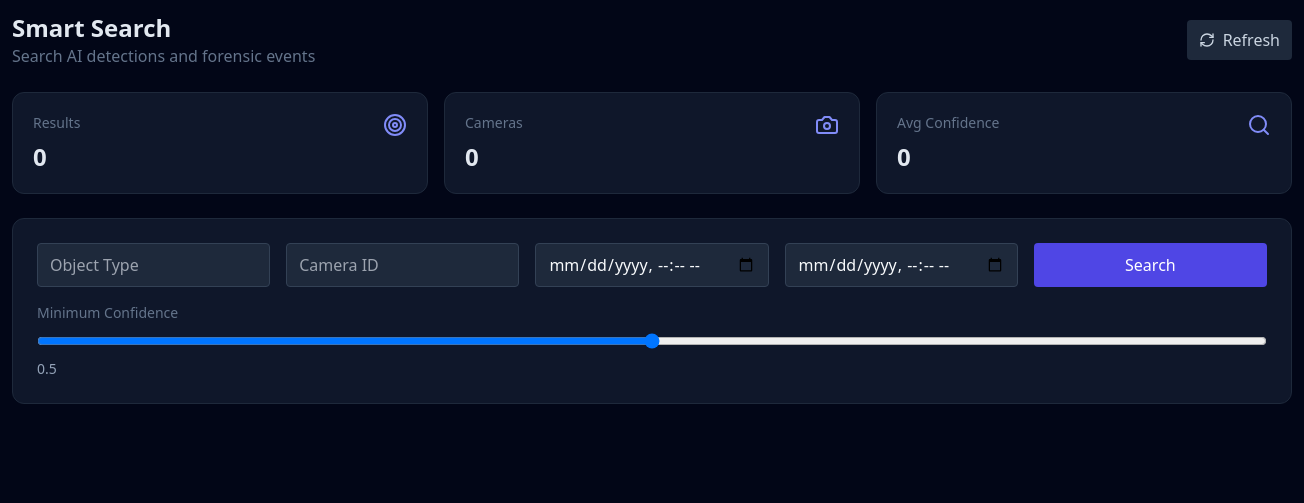
Test: SearchPage › shows error message when search fails
What coordinates should you click on to do the following:
click the button "Search"
I would click on:
 (1150, 265)
Its box is [1034,243,1267,287].
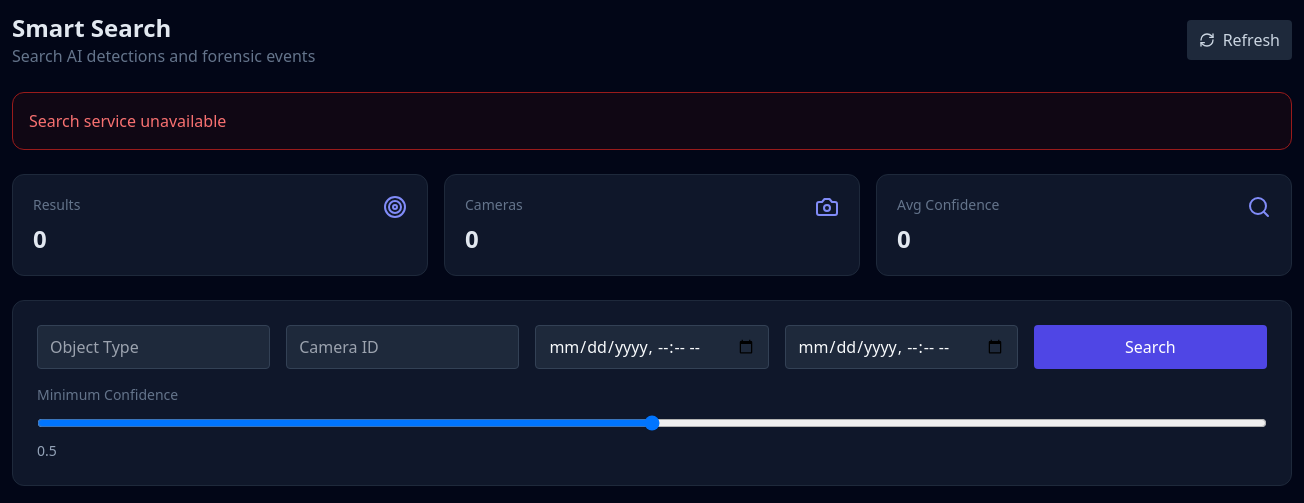
Now the text "Search service unavailable" is shown, box [12,92,1292,150]
